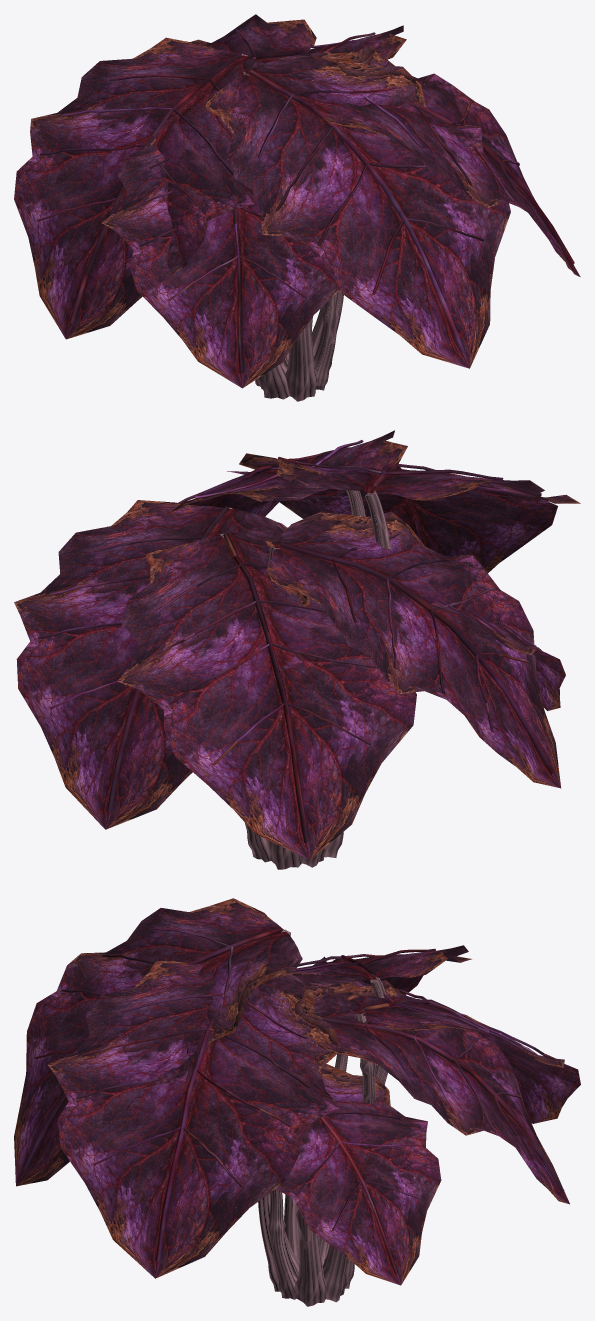
Rendered from giantleaf_01.glb.
3 views of the same model, one above another, from view 1: azimuth 30°, elevation 25°; view 2: azimuth 150°, elevation 25°; view 3: azimuth 270°, elevation 25° (orthographic). The views are drawn at different scales.
Parts seen in each view (by area): view 1: export; view 2: export; view 3: export.
Part boxes in pixels (<box>): export: <box>14,14,580,401</box>; export: <box>14,430,580,869</box>; export: <box>14,898,580,1306</box>.
Bounding box in the file's own units: 2.26 × 1.65 × 2.52.
3 materials, 3 textured.
